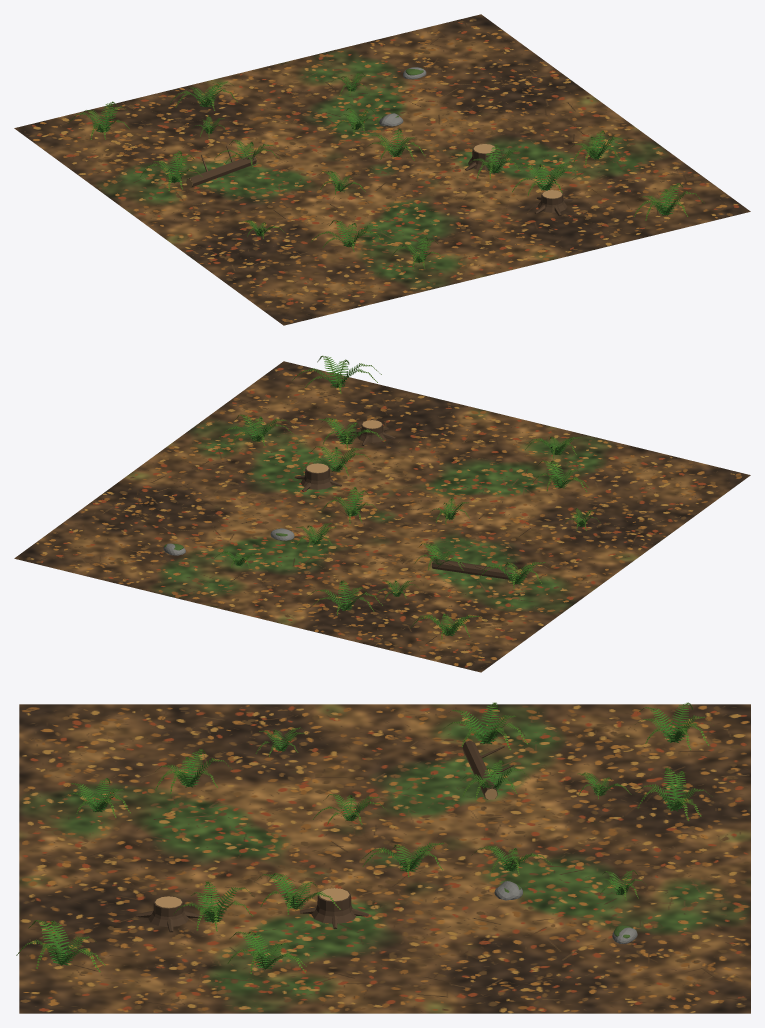
File: les_zem.glb
3 renders of one model, top to bottom at view 1: azimuth 30°, elevation 25°; view 2: azimuth 150°, elevation 25°; view 3: azimuth 270°, elevation 25°, orthographic. The views are drawn at different scales.
Parts seen in each view (by area): view 1: zem, klada_0, kapradi_07, kapradi_15, kapradi_06, kapradi_03, kapradi_04, parez_1, parez_0, kapradi_05, kapradi_10, kapradi_11 (+1 smaller); view 2: zem, kapradi_07, klada_0, parez_1, kapradi_11, kapradi_05, parez_0, kapradi_14, kapradi_15, kapradi_04, kapradi_06, kapradi_03 (+1 smaller); view 3: zem, parez_1, kapradi_07, kapradi_06, kapradi_03, kapradi_11, parez_0, kapradi_15, kapradi_05, kapradi_04, kapradi_14, klada_0 (+6 smaller).
Boxes of the visible parts, x1,y1,x2,y2 form: zem: (14,14,750,325); klada_0: (186,145,256,187); kapradi_07: (634,183,704,220); kapradi_15: (512,163,580,195); kapradi_06: (140,150,202,190); kapradi_03: (68,101,129,139); kapradi_04: (311,220,385,251); parez_1: (465,144,506,170); parez_0: (535,190,572,215); kapradi_05: (571,130,628,164); kapradi_10: (367,128,425,160); kapradi_11: (170,81,237,110); zem: (14,361,750,672); kapradi_07: (292,355,381,393); klada_0: (431,558,514,579); parez_1: (294,463,341,491); kapradi_11: (307,580,382,615); kapradi_05: (219,414,294,445); parez_0: (351,420,395,445); kapradi_14: (301,446,372,475); kapradi_15: (318,417,384,448); kapradi_04: (532,460,588,491); kapradi_06: (478,562,552,588); kapradi_03: (410,613,487,639); zem: (19,704,750,1013); parez_1: (300,888,368,928); kapradi_07: (16,920,105,972); kapradi_06: (443,702,528,750); kapradi_03: (635,702,713,750); kapradi_11: (636,767,712,820); parez_0: (136,896,200,932); kapradi_15: (173,881,253,931); kapradi_05: (227,931,306,973); kapradi_04: (155,749,233,793); kapradi_14: (257,873,340,914); klada_0: (462,740,513,799).
Bounding box in the file's own units: 14.8 × 0.7804 × 14.91.
3 materials, 3 textured.
